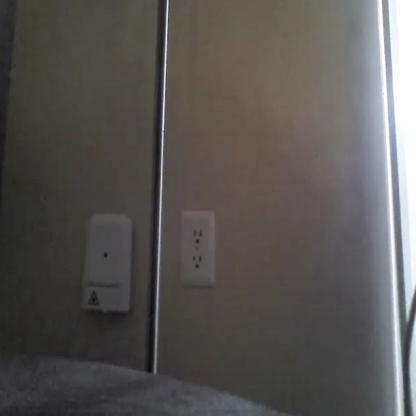OUTLET: (180, 211, 216, 288)
